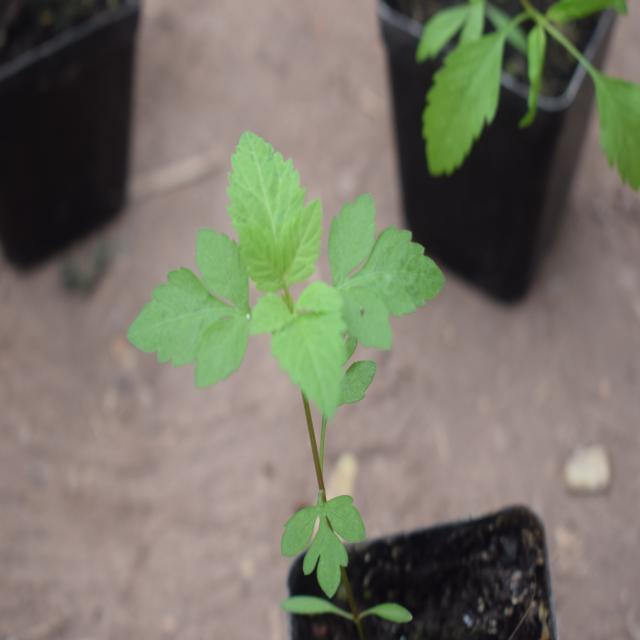Bidens pilosa: (146, 120, 435, 605)
